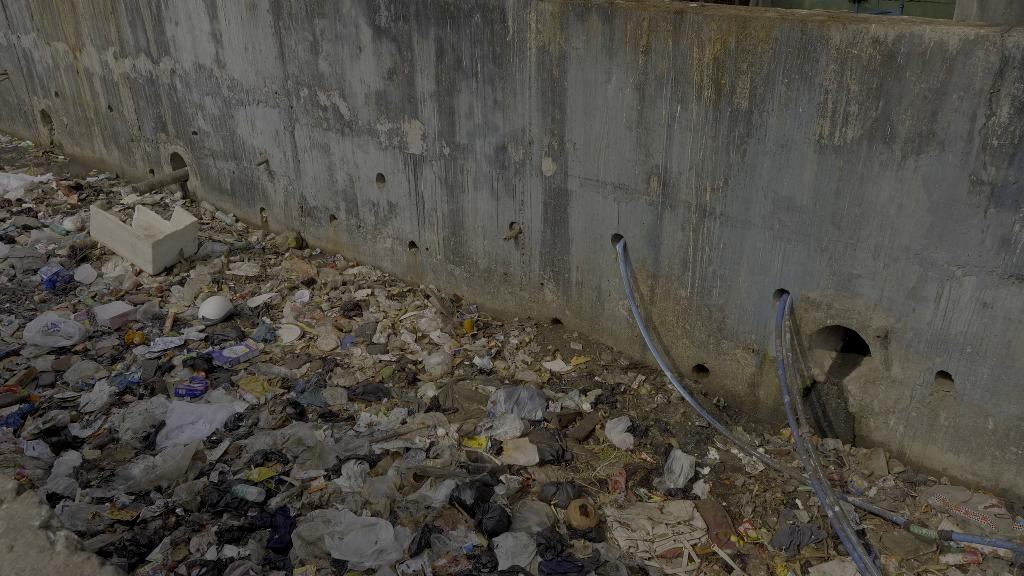garbage: (155, 382, 243, 452), (319, 510, 398, 566), (16, 311, 89, 350), (525, 472, 585, 515), (518, 426, 577, 467), (658, 450, 701, 494), (446, 478, 497, 515), (600, 415, 638, 457), (417, 345, 460, 381), (477, 502, 513, 542), (34, 260, 73, 296), (347, 378, 392, 407), (226, 481, 274, 506), (146, 332, 190, 353), (333, 297, 369, 322)
